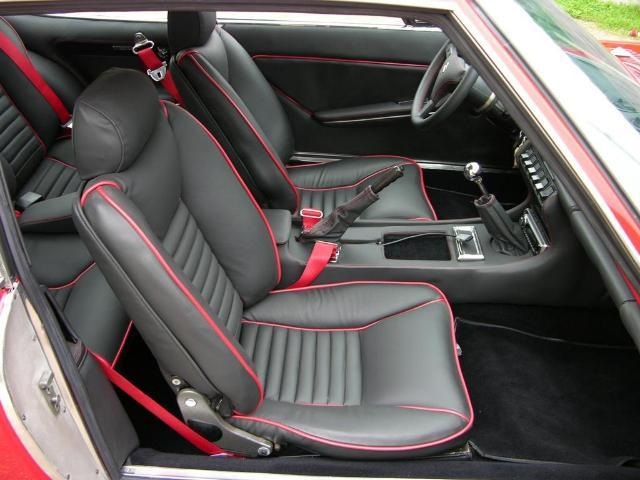Seatbelt: (82, 349, 245, 457), (280, 202, 338, 288), (141, 32, 181, 106)
